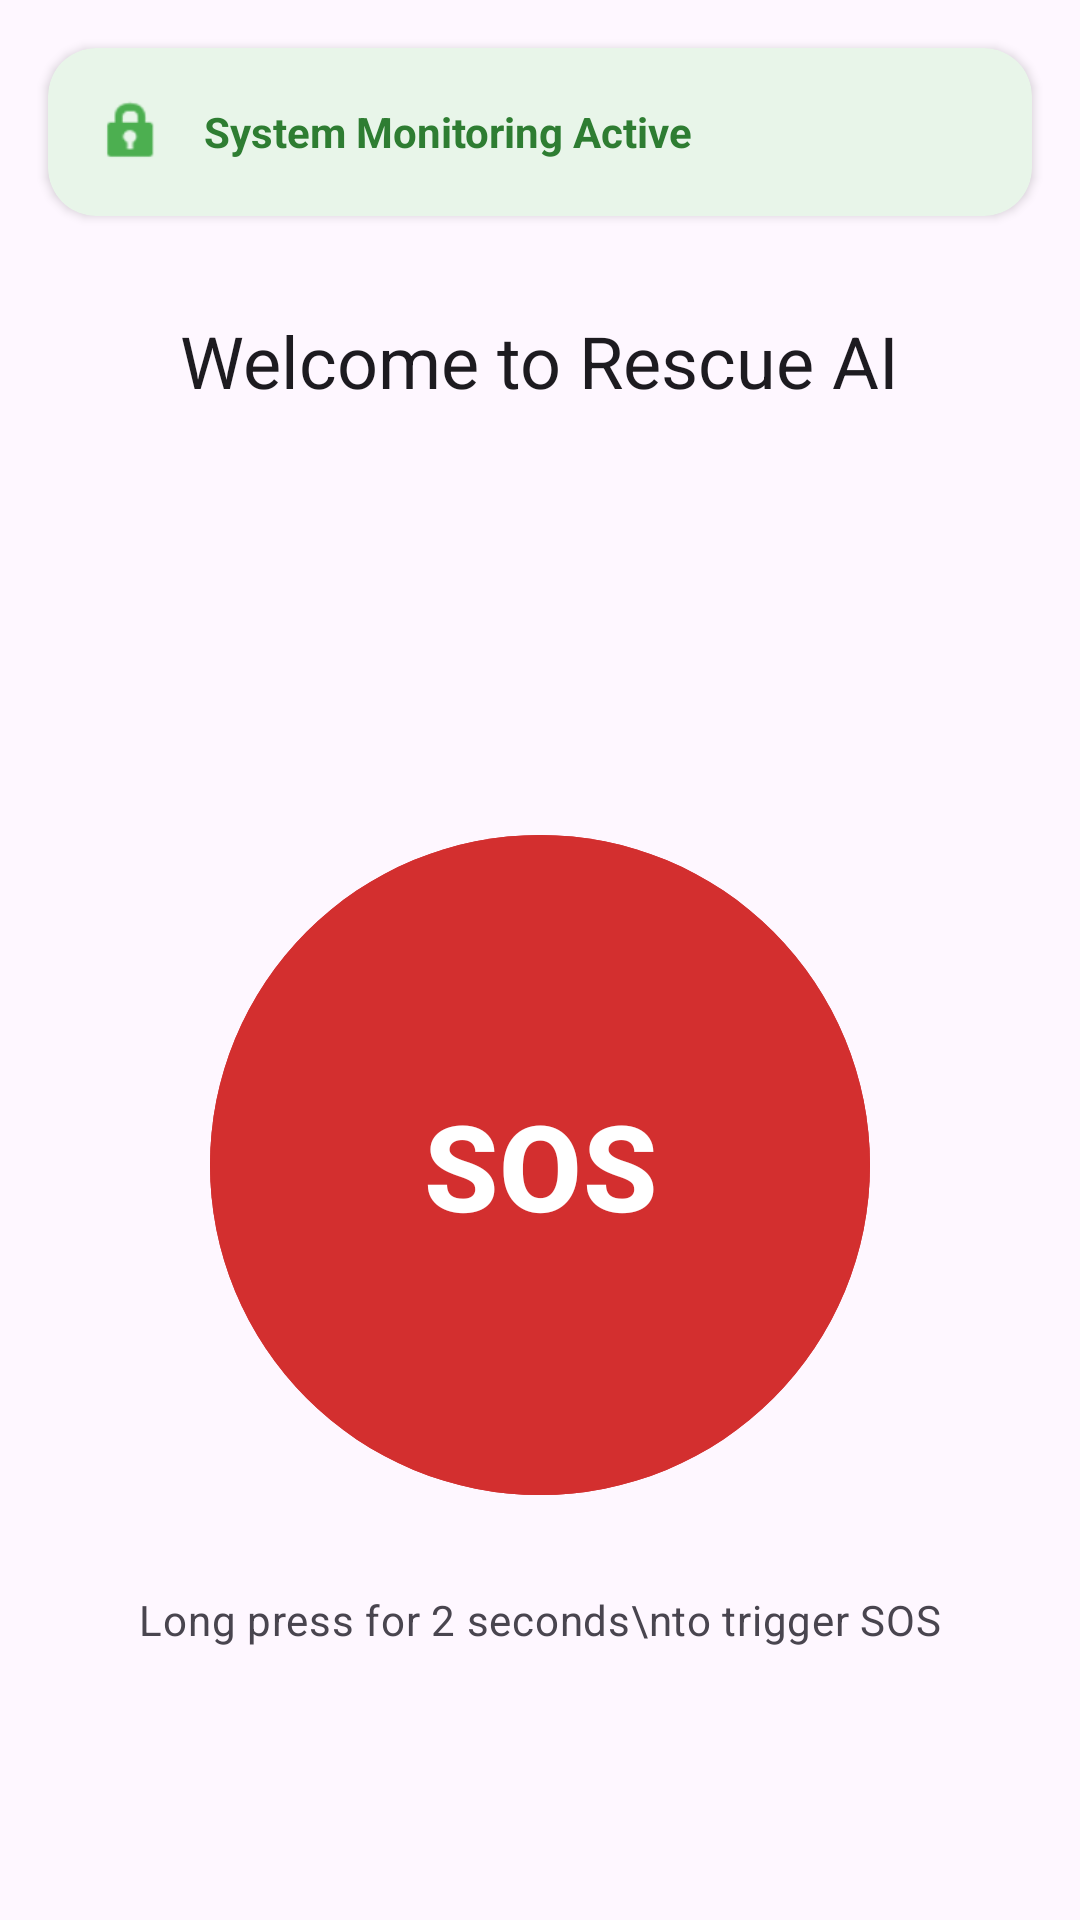

Icon bounding boxes for this 1080px×1920px phone screenshot, format box(x1, y1, x2, y2):
lock idle: box(107, 102, 154, 157)
